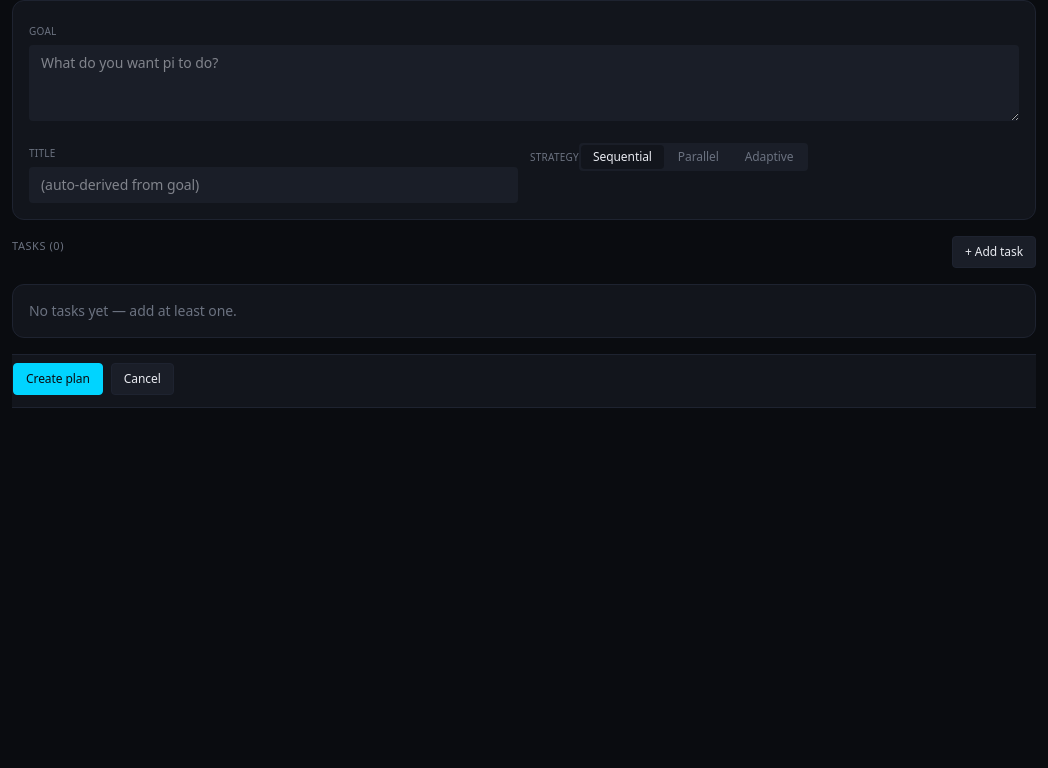
PlanEditor › switches the action type and shows the per-type fields
Step 1. Click the button with test id "add-task" → (994, 252), box [952,236,1036,268]
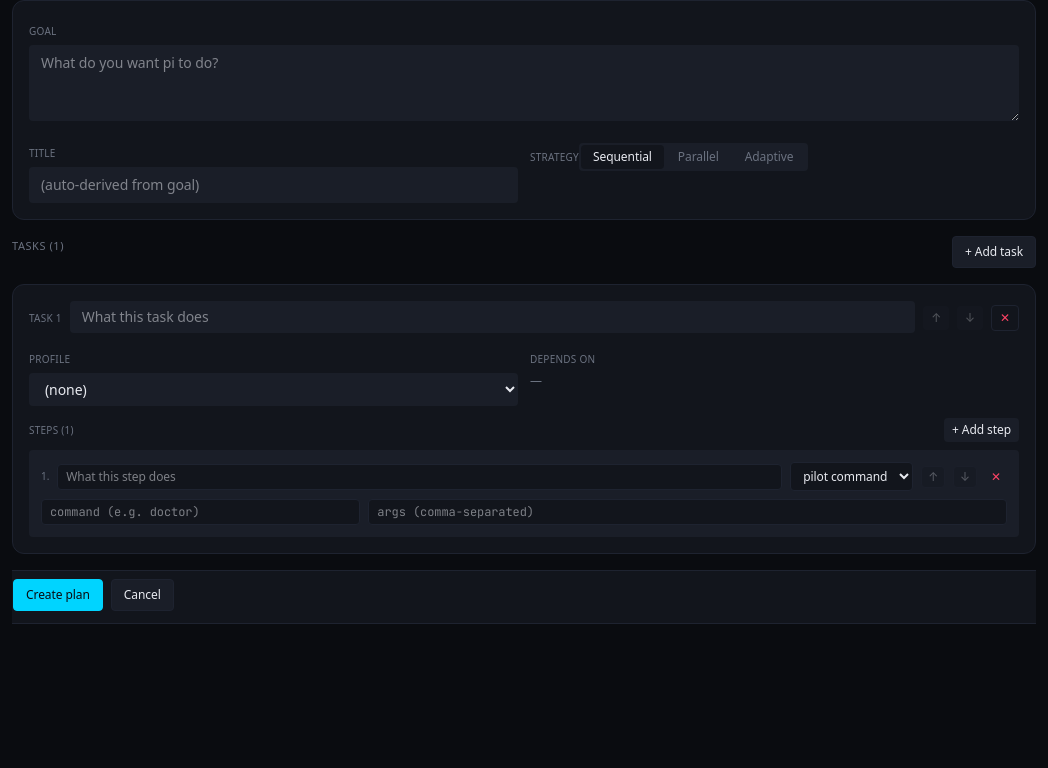
expect the 2nd dropdown is shown: met
expect the field with placeholder "command (e.g. doctor)" is shown: met, box [41,499,360,525]
Note: Switch to "pi_session" → shows a prompt textarea.
Step 2. Select "pi session" in the 2nd dropdown → (852, 476), box [790,462,913,491]
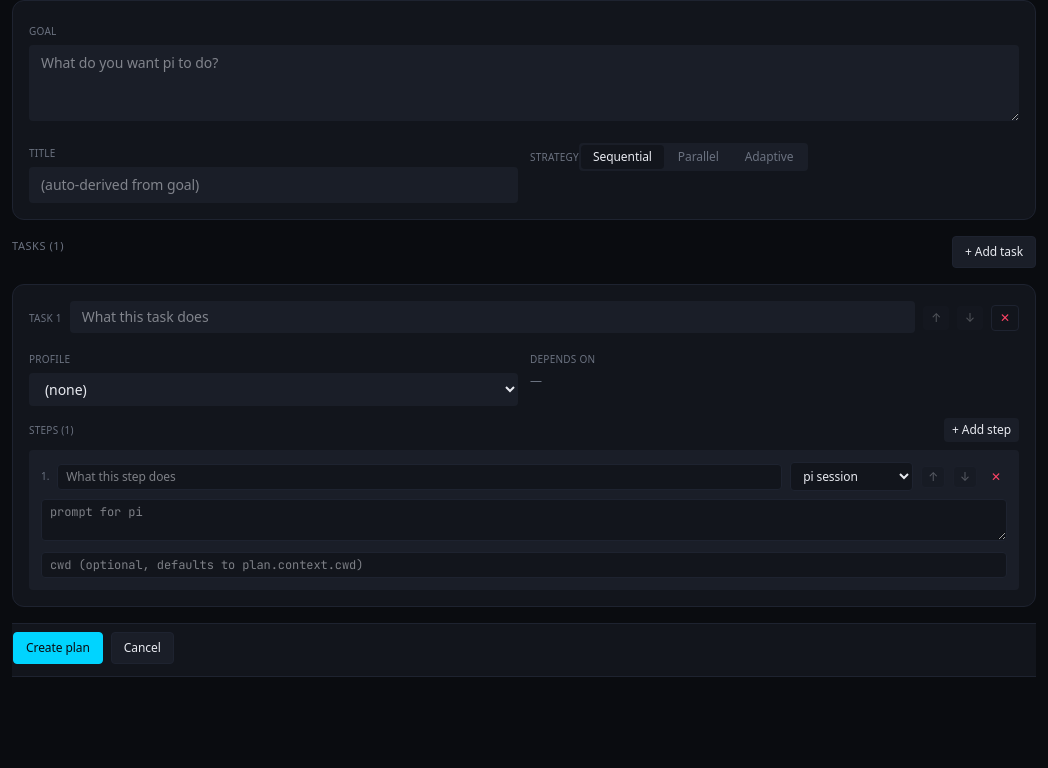
expect the text box with placeholder "prompt for pi" is shown: met, box [41,499,1007,541]
Note: Switch to "condition" → shows the check input + help line.
Step 3. Select "if / condition" in the 2nd dropdown → (852, 476), box [790,462,913,491]
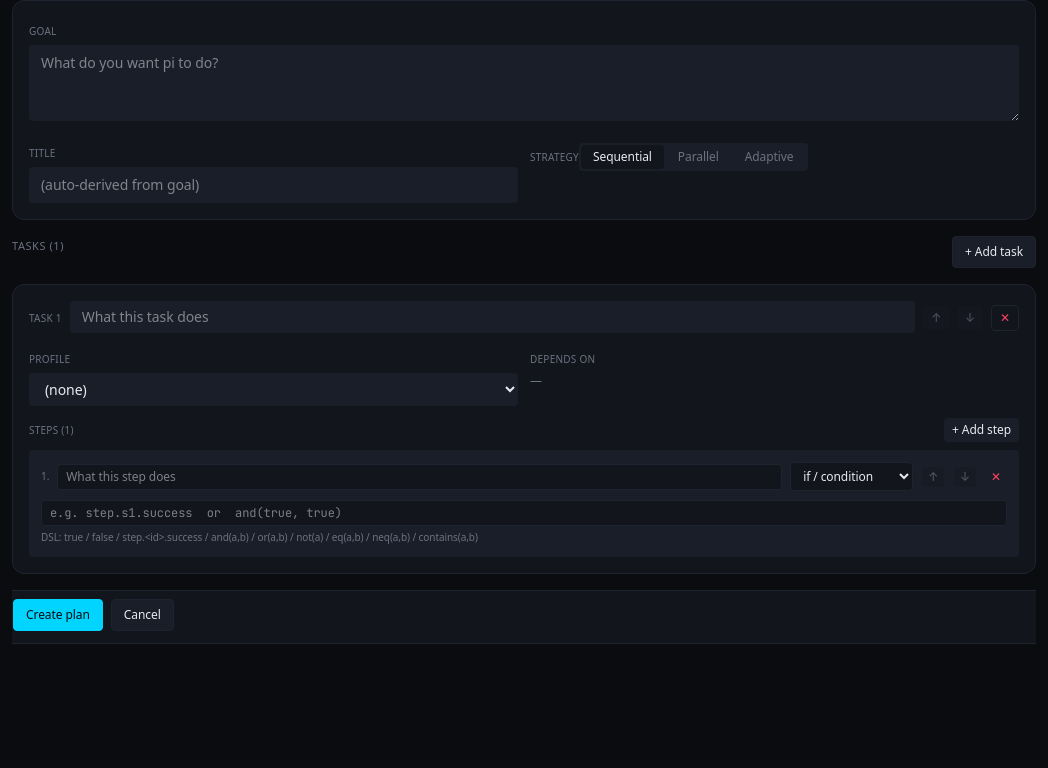
expect the field with placeholder "e.g. step.s1.success or and(true, true)" is shown: met, box [41,500,1007,526]
expect the text "DSL: true / false / step.<id>.success" is shown: met, box [41,530,478,544]
